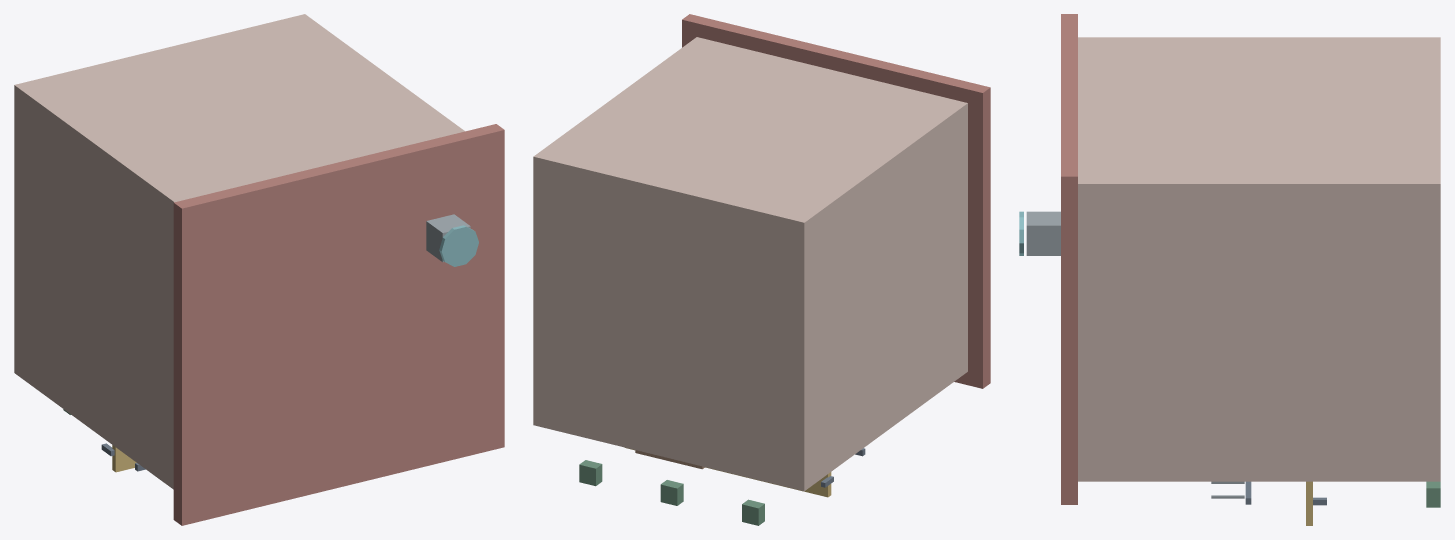
Rendered from three_storey_house.glb.
3 renders of one model, left to right at view 1: azimuth 30°, elevation 25°; view 2: azimuth 150°, elevation 25°; view 3: azimuth 270°, elevation 25°, orthographic. The views are drawn at different scales.
Parts seen in each view (by area): view 1: roof, wall3, glass, metal2; view 2: wall3, roof, green; view 3: wall3, roof, metal2.
Boxes of the visible parts, x1=… form: roof: x1=173, y1=124, x2=504, y2=525; wall3: x1=14, y1=14, x2=464, y2=489; glass: x1=439, y1=225, x2=478, y2=266; metal2: x1=426, y1=214, x2=470, y2=262; wall3: x1=533, y1=37, x2=967, y2=491; roof: x1=682, y1=14, x2=990, y2=388; green: x1=579, y1=460, x2=764, y2=525; wall3: x1=1078, y1=37, x2=1440, y2=481; roof: x1=1061, y1=14, x2=1077, y2=504; metal2: x1=1026, y1=211, x2=1244, y2=498.
Size of the model in its own units: 8.07 by 8.69 by 8.83.
